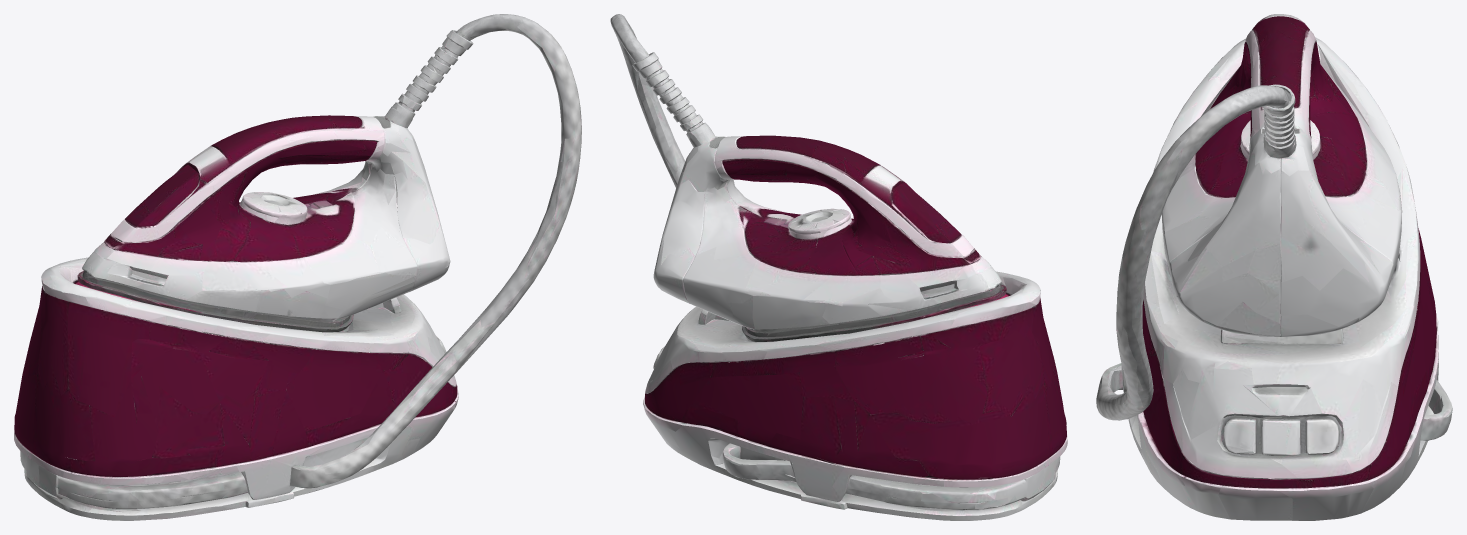
Rendered from tefal-irons-sv612al3.glb.
3 views of the same model, side by side, from view 1: azimuth 30°, elevation 25°; view 2: azimuth 150°, elevation 25°; view 3: azimuth 270°, elevation 25° (orthographic). The views are drawn at different scales.
Bounding box in the file's own units: 1.9 × 1.41 × 0.951.
1 material, 1 textured.
